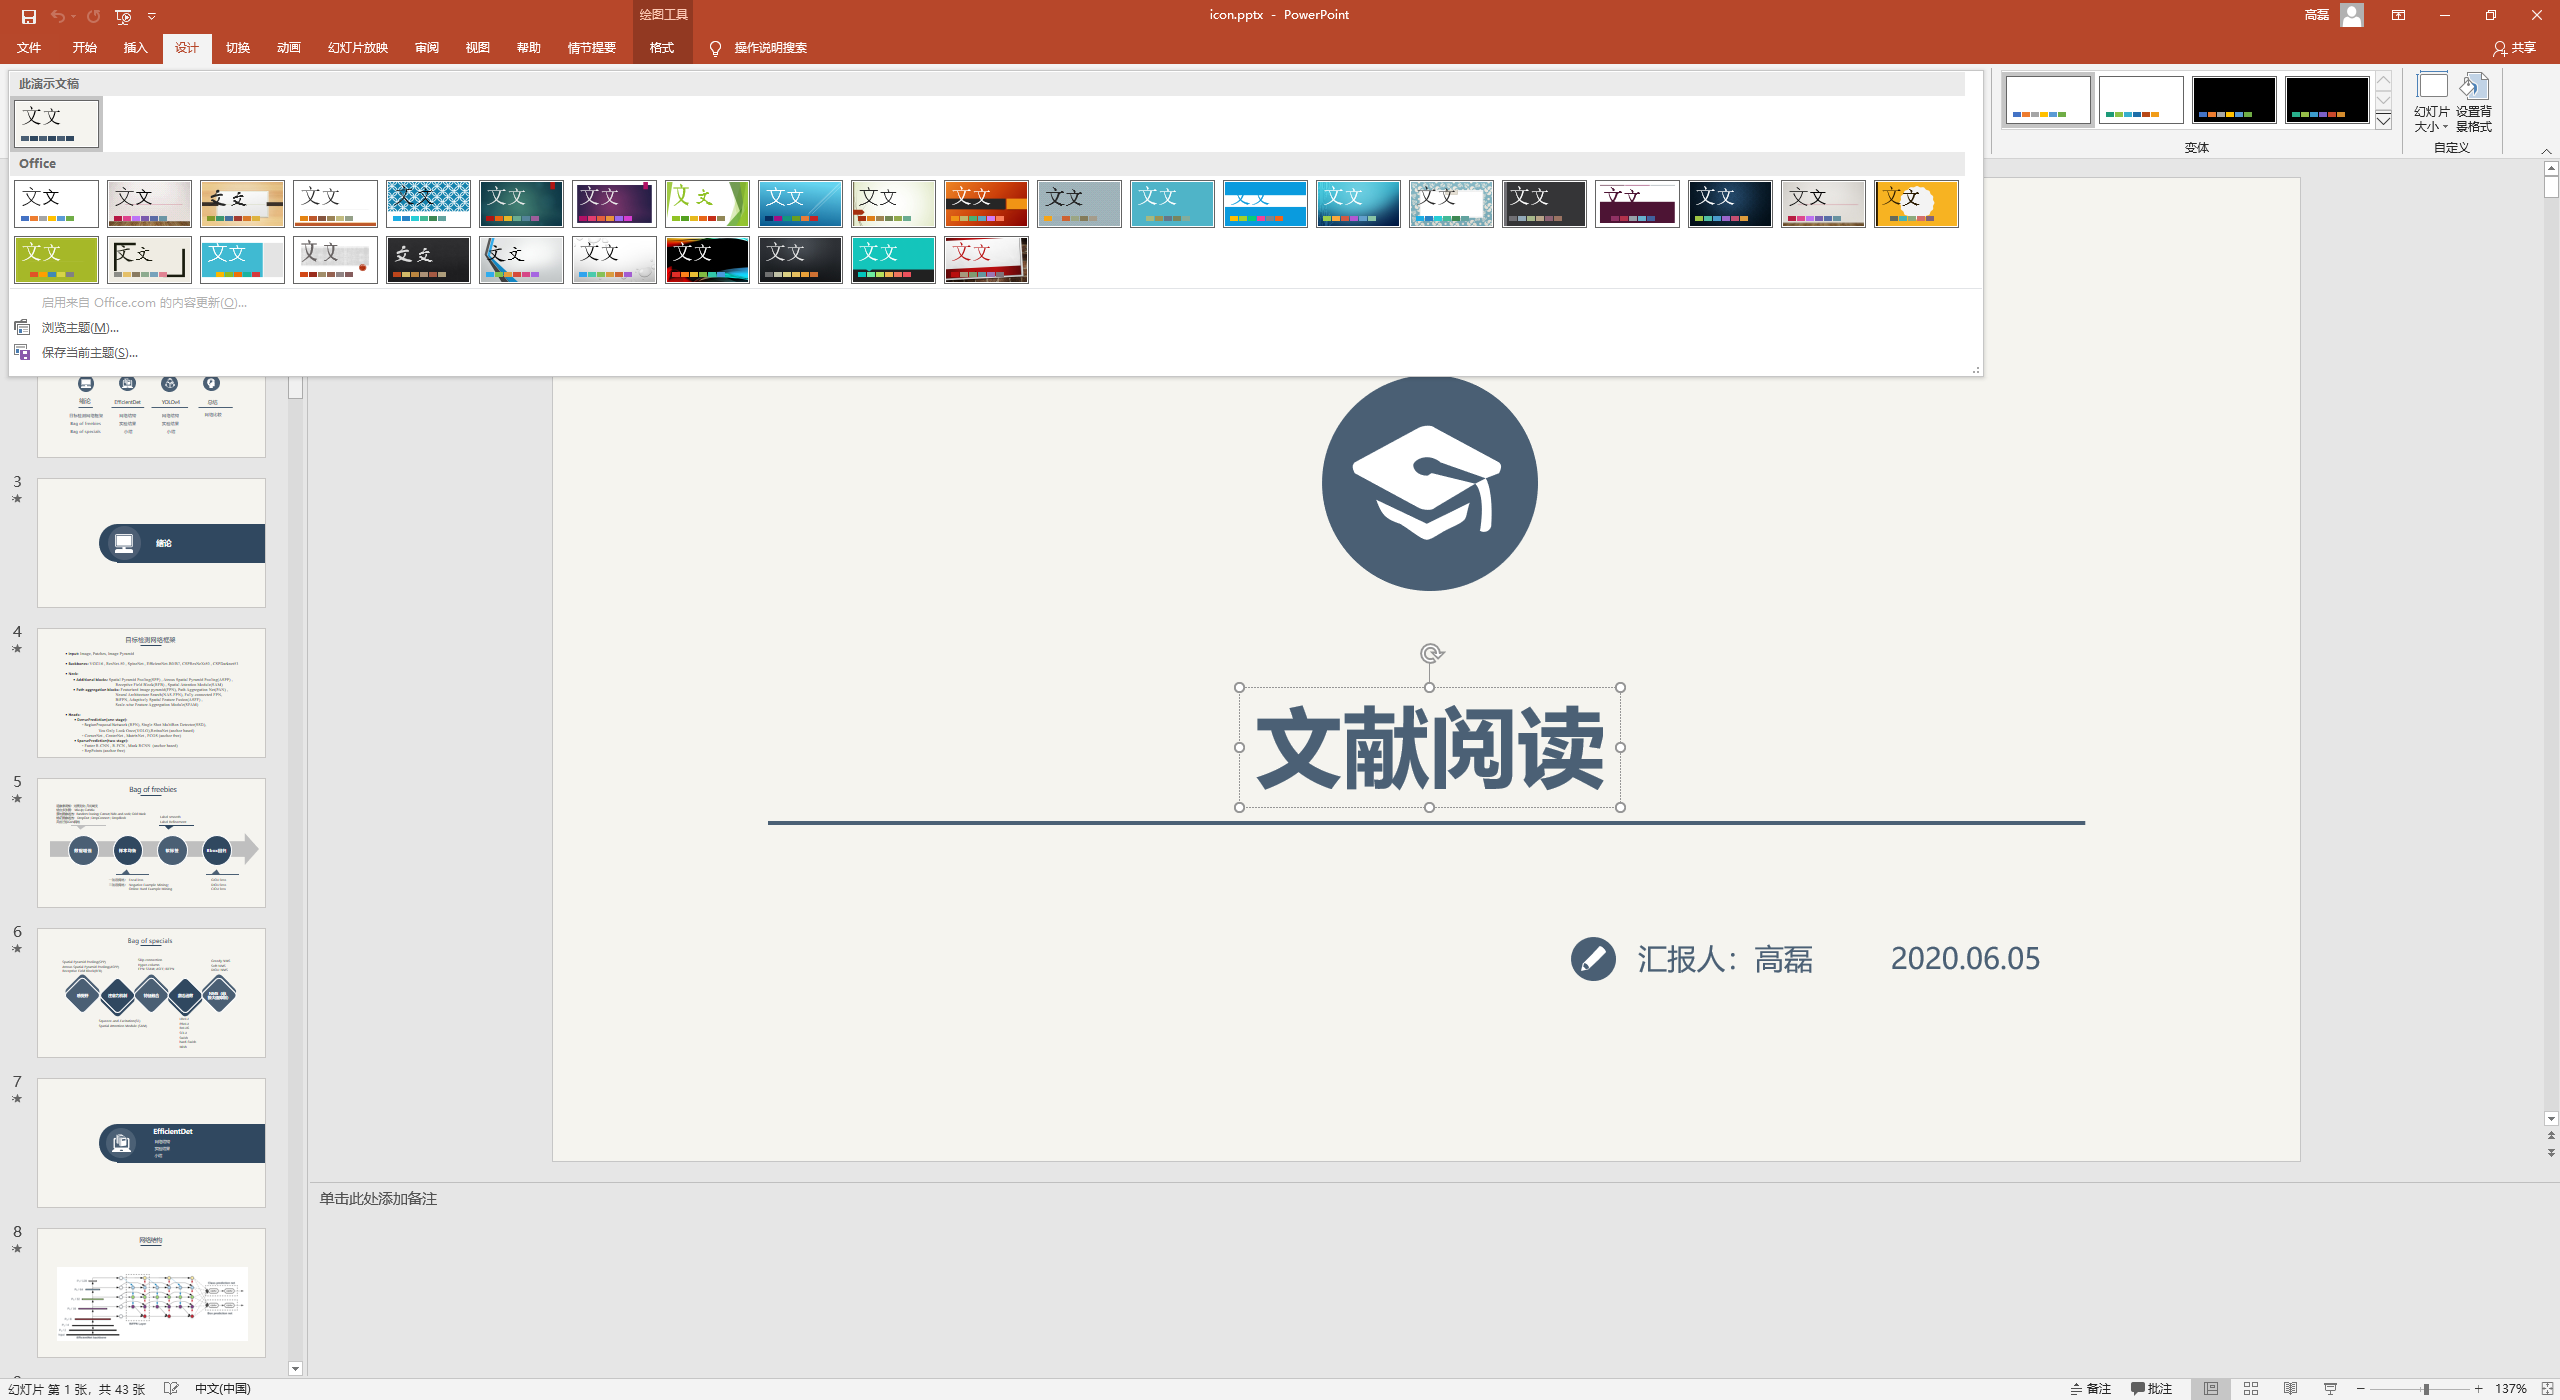character: (1253, 698, 1607, 791), (1634, 943, 1817, 976), (1889, 943, 2041, 972), (41, 295, 248, 309), (1205, 9, 1358, 24), (7, 1381, 148, 1397), (321, 1191, 441, 1209), (41, 345, 136, 360), (734, 40, 812, 55), (40, 319, 124, 333), (2458, 105, 2494, 133), (195, 1381, 253, 1397), (638, 5, 690, 22), (565, 40, 621, 55), (16, 76, 83, 88), (328, 41, 386, 55), (17, 155, 60, 171), (121, 40, 153, 57), (646, 40, 679, 57), (2494, 1381, 2531, 1397), (2432, 143, 2476, 155), (2182, 138, 2215, 153), (514, 40, 545, 55), (2303, 5, 2331, 22), (16, 40, 45, 55), (71, 38, 97, 55), (414, 41, 441, 55), (2512, 38, 2536, 53), (2088, 1381, 2114, 1395), (276, 41, 305, 53), (10, 466, 26, 486), (172, 41, 198, 53), (465, 41, 491, 53), (2415, 107, 2450, 116), (10, 922, 29, 938), (226, 41, 250, 53), (2150, 1383, 2174, 1395), (2412, 121, 2434, 131), (10, 1071, 22, 1088), (9, 624, 22, 638), (12, 772, 26, 786), (10, 1224, 22, 1238)
icon: (34, 934, 265, 1059), (29, 629, 262, 752), (38, 779, 271, 902), (34, 1079, 267, 1202), (34, 1231, 267, 1353), (29, 484, 260, 607), (36, 376, 265, 460), (1353, 422, 1505, 538), (2189, 72, 2281, 128), (283, 234, 379, 284), (2003, 72, 2093, 126), (1593, 178, 1684, 229), (664, 178, 753, 229), (1221, 178, 1310, 229), (1874, 178, 1964, 229), (2096, 72, 2186, 124), (383, 234, 472, 286), (384, 176, 471, 229), (2284, 71, 2370, 124), (664, 234, 752, 286), (755, 234, 843, 286), (1127, 178, 1215, 229), (198, 179, 284, 231), (16, 97, 102, 148), (105, 178, 193, 228), (103, 234, 191, 284), (571, 236, 659, 286), (1407, 179, 1496, 228), (12, 178, 98, 228), (571, 178, 657, 228), (478, 234, 564, 284), (1500, 179, 1586, 229), (295, 179, 379, 229), (483, 178, 564, 228), (198, 236, 284, 283), (945, 181, 1033, 226), (1688, 179, 1769, 228), (850, 234, 927, 284), (759, 183, 845, 228), (16, 236, 98, 283), (1315, 179, 1398, 226), (852, 181, 931, 228), (946, 236, 1026, 283), (1784, 181, 1864, 228), (1040, 179, 1115, 224), (2413, 67, 2451, 98), (2457, 69, 2491, 102), (1581, 943, 1608, 976), (2193, 1378, 2226, 1397), (2339, 3, 2363, 26), (1420, 641, 1445, 664), (2374, 83, 2391, 110), (112, 7, 133, 28), (2526, 3, 2546, 24), (2374, 109, 2393, 129), (12, 317, 31, 336), (19, 9, 38, 26), (2491, 40, 2508, 59), (2243, 1379, 2262, 1397), (14, 343, 31, 360), (707, 40, 724, 57), (2389, 5, 2407, 22), (2482, 5, 2500, 22), (162, 1379, 179, 1397), (2539, 1379, 2557, 1397), (2281, 1379, 2300, 1395), (84, 9, 102, 24), (48, 9, 66, 24), (2436, 7, 2453, 22), (2129, 1381, 2146, 1397), (2322, 1379, 2338, 1397), (9, 490, 24, 505), (9, 790, 24, 805), (1612, 740, 1627, 755), (9, 1240, 24, 1255), (2069, 1381, 2084, 1397), (2353, 1381, 2369, 1397), (2539, 145, 2555, 159), (2377, 72, 2391, 88), (1614, 679, 1627, 695), (9, 940, 22, 955), (2544, 1110, 2558, 1126), (2419, 1381, 2432, 1397), (145, 9, 159, 22), (9, 641, 22, 655), (1233, 679, 1246, 693), (1233, 740, 1246, 753), (1422, 800, 1436, 814), (1614, 800, 1627, 814), (288, 1360, 302, 1374), (9, 1090, 22, 1103), (2544, 160, 2557, 176), (2439, 117, 2451, 133), (1422, 681, 1436, 693), (1233, 802, 1246, 814), (67, 10, 79, 22), (2472, 1383, 2484, 1395), (2546, 1147, 2557, 1159), (2546, 1128, 2557, 1140)
